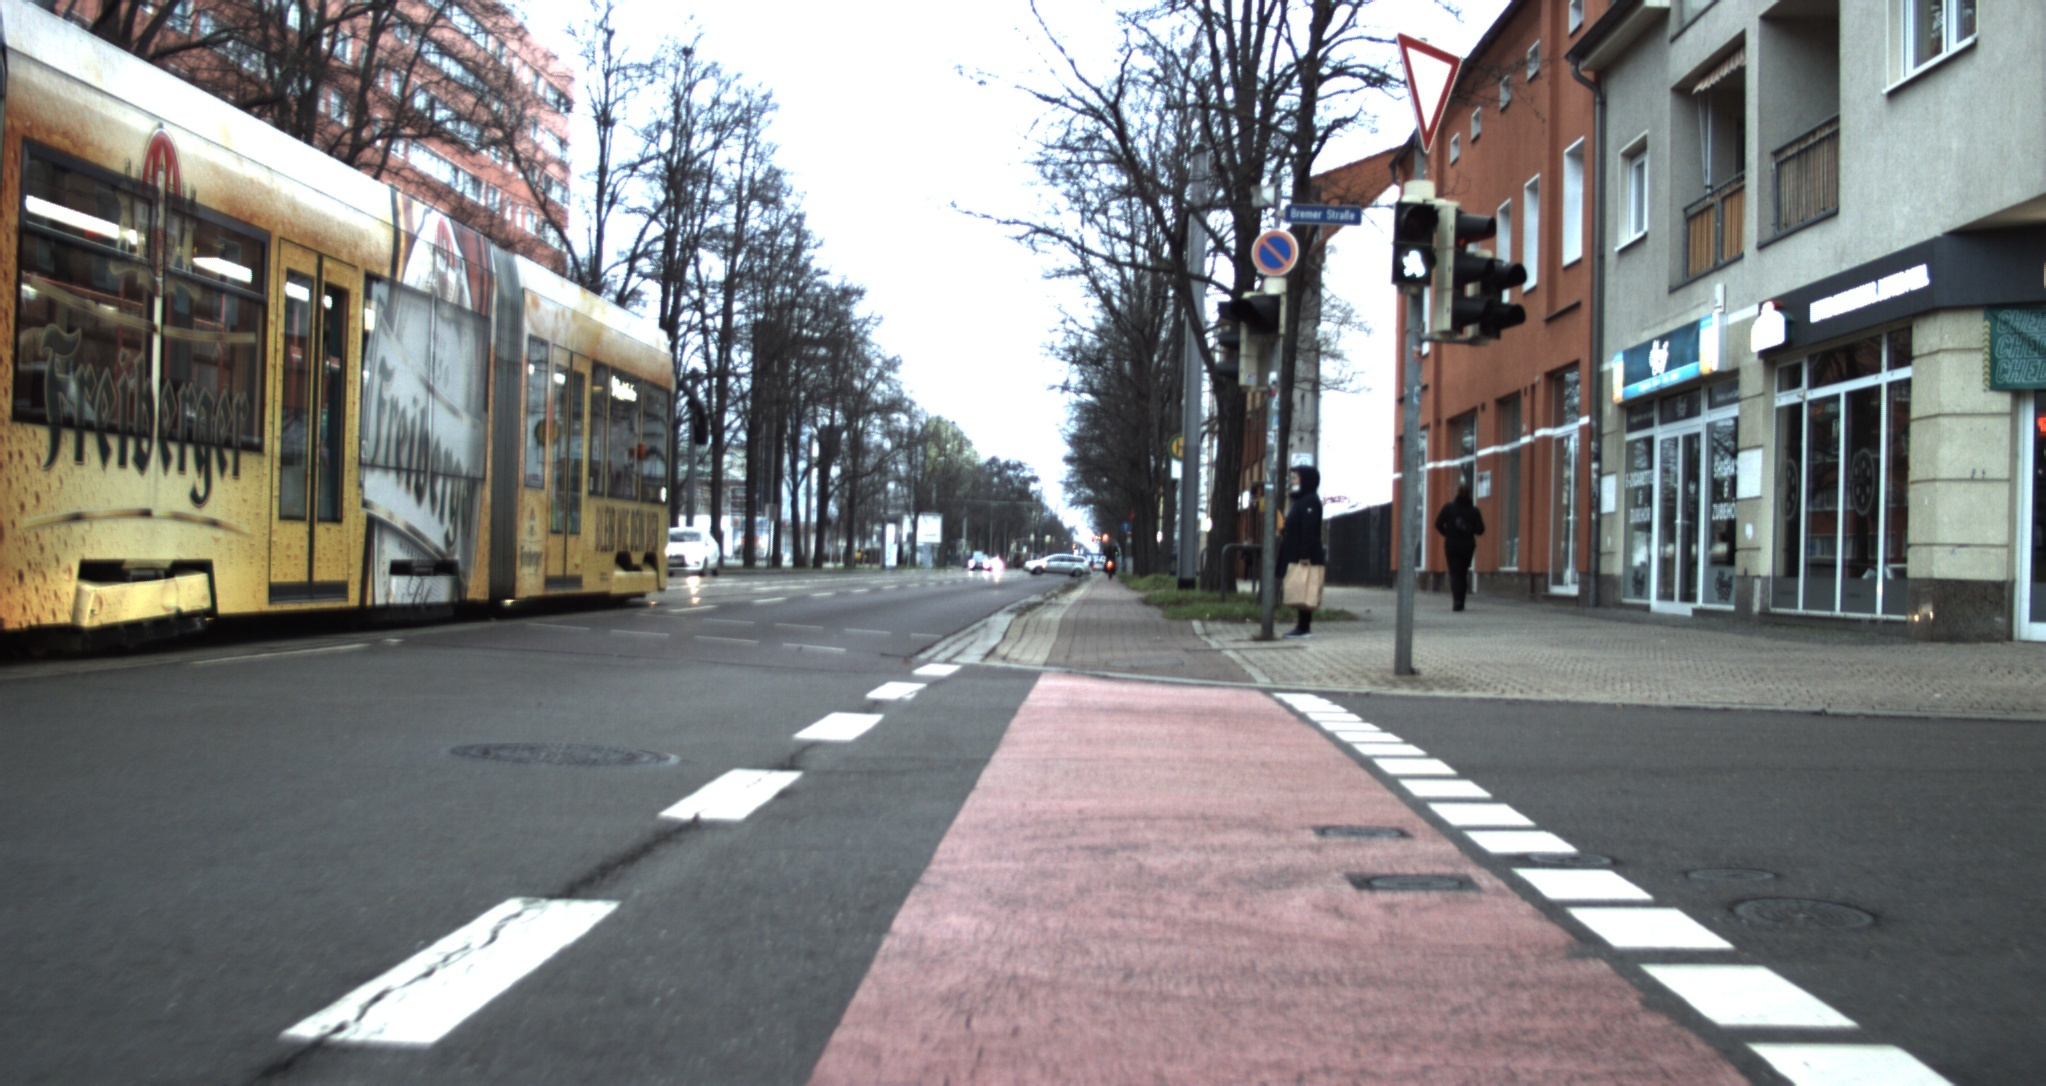adult without baby buggy or mobility support: (1276, 464, 1323, 637), (1434, 485, 1485, 611)
car: (669, 526, 720, 577), (1023, 553, 1090, 577)
traffic light: (1392, 201, 1434, 284)
trafficsign_Vorfahrt gewaehren: (1396, 31, 1462, 153)
trafficsign_miscellaneous traffic signs: (1251, 229, 1299, 276)
tram: (0, 0, 707, 660)
